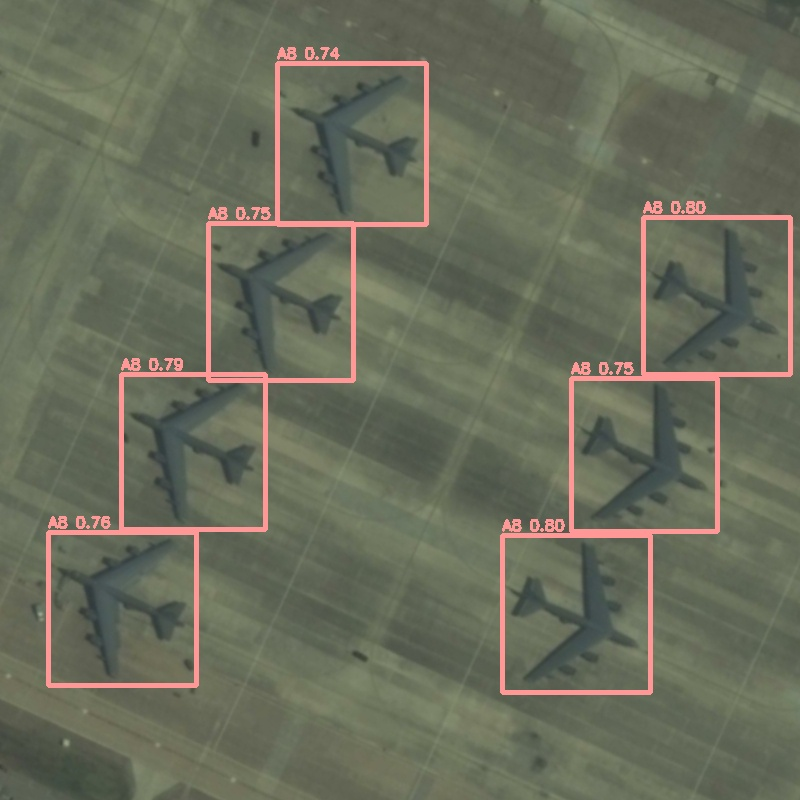A8: (277, 63, 426, 224), (502, 535, 650, 692), (643, 217, 790, 374), (208, 223, 353, 380), (48, 532, 196, 685), (571, 378, 717, 531), (121, 374, 265, 529)
